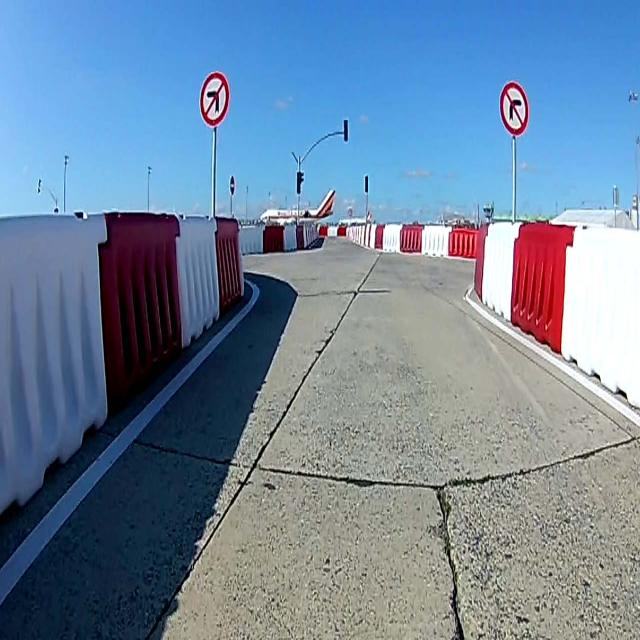sagadonulmez: (500, 81, 530, 135)
soladonulmez: (200, 71, 230, 125)
